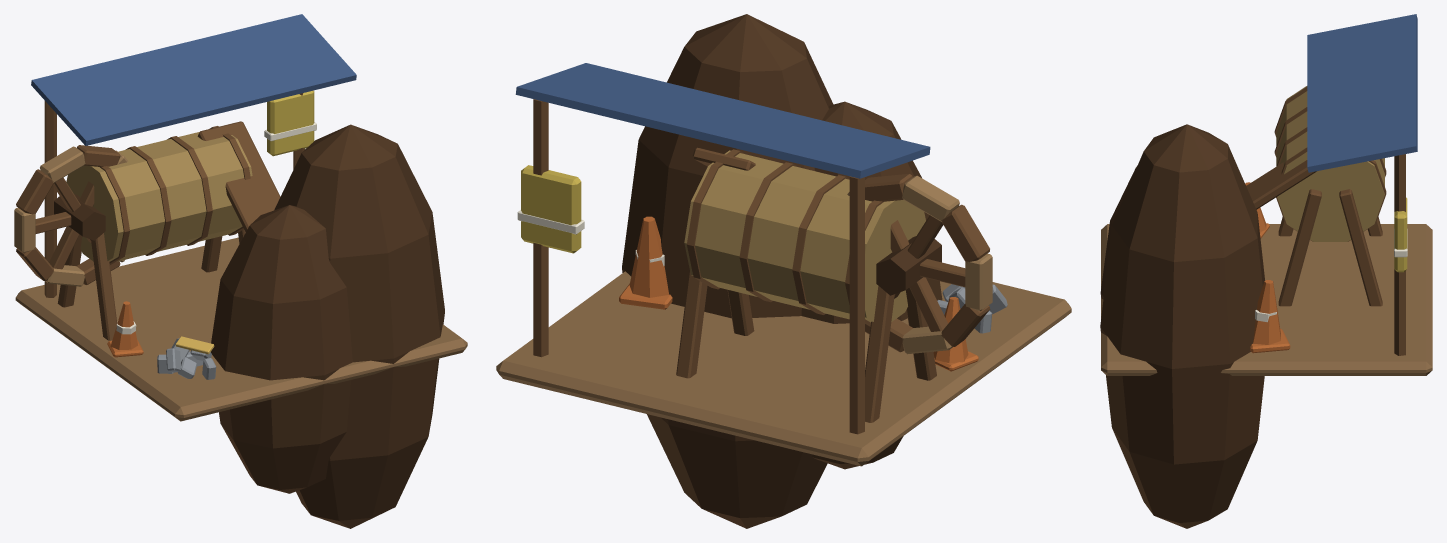
File: midden_sorter_l2.fbx
3 renders of one model, left to right at view 1: azimuth 30°, elevation 25°; view 2: azimuth 150°, elevation 25°; view 3: azimuth 270°, elevation 25°, orthographic. The views are drawn at different scales.
Visible parts, largest first — view 1: Building; view 2: Building; view 3: Building.
Part boxes in pixels (x1,y1,x2,y2): Building: (14,14,467,528); Building: (496,14,1071,528); Building: (1100,14,1432,528).
Bounding box in the file's own units: 1.26 × 1.04 × 1.44.
